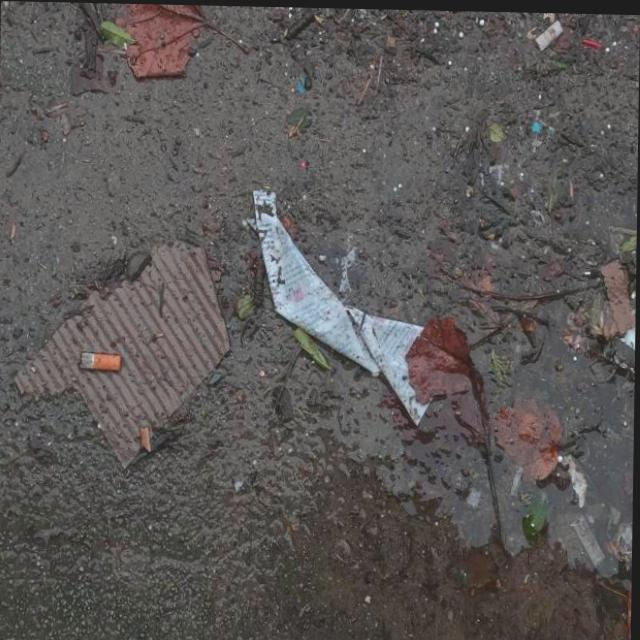Paper: (247, 183, 441, 426)
